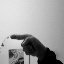g: (9, 33, 42, 57)
